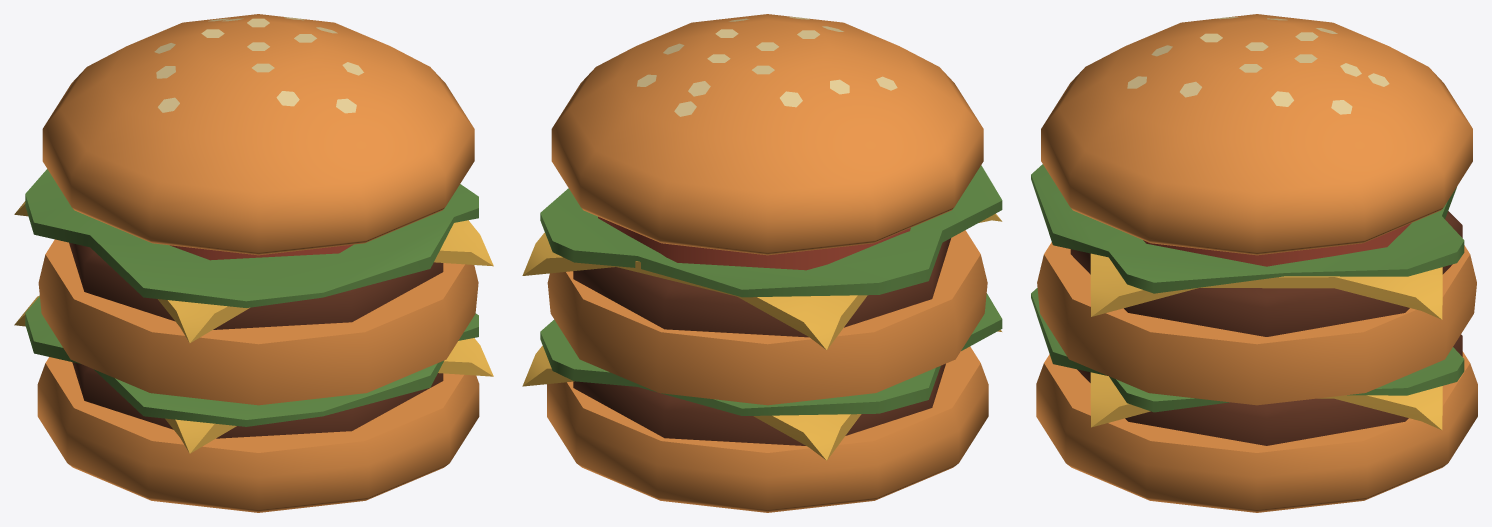
Rendered from Hamburger_01_Big.fbx.
The picture shows the model from 3 angles, left to right: view 1: azimuth 30°, elevation 25°; view 2: azimuth 150°, elevation 25°; view 3: azimuth 270°, elevation 25°; orthographic projection.
Visible parts, largest first — view 1: Hamburger_01_Big; view 2: Hamburger_01_Big; view 3: Hamburger_01_Big.
Boxes of the visible parts, x1=… form: Hamburger_01_Big: x1=14, y1=14, x2=493, y2=512; Hamburger_01_Big: x1=522, y1=14, x2=1002, y2=512; Hamburger_01_Big: x1=1031, y1=14, x2=1477, y2=512.
Size of the model in its own units: 0.1488 by 0.139 by 0.1499.
